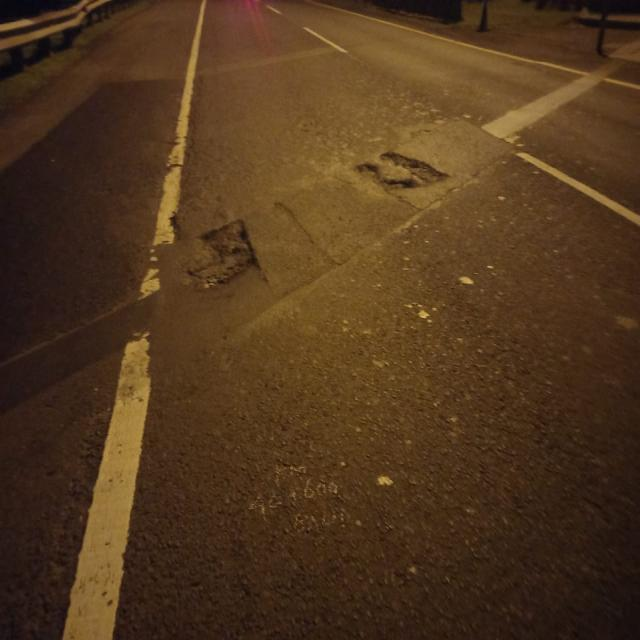Buraco: (178, 217, 266, 291), (352, 150, 454, 194)
